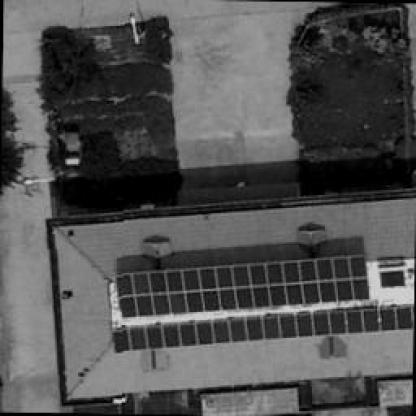solar-pv-panel: (116, 256, 370, 317), (114, 305, 414, 354)
